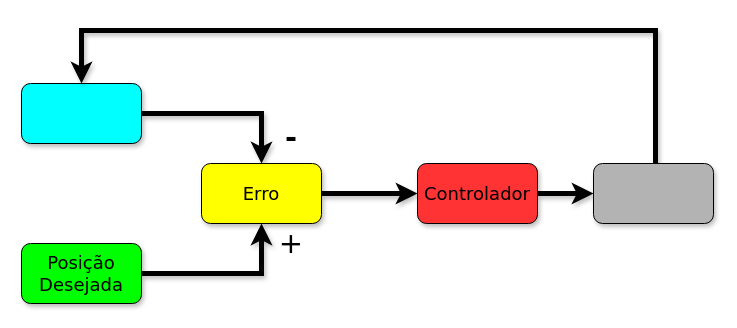
This 737x328 diagram has some shape labels left out. Each missing label, with the centre of its shape:
Braço Robótico: point (654, 194)
Posição Atual: point (82, 114)
